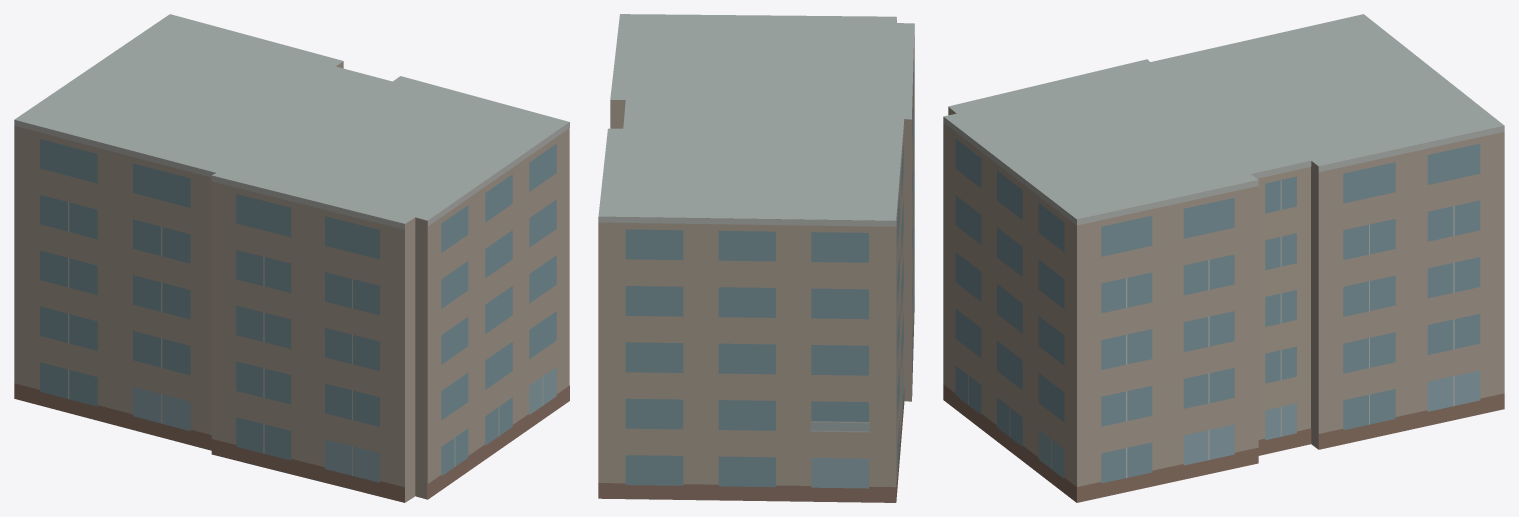
Rendered from survey-upis-32658032.glb.
The picture shows the model from 3 angles, left to right: view 1: azimuth 30°, elevation 25°; view 2: azimuth 150°, elevation 25°; view 3: azimuth 270°, elevation 25°; orthographic projection.
Visible parts, largest first — view 1: survey-upis-32658032.tmp; view 2: survey-upis-32658032.tmp; view 3: survey-upis-32658032.tmp.
Part boxes in pixels (x1,y1,x2,y2): survey-upis-32658032.tmp: (14,14,569,502); survey-upis-32658032.tmp: (598,14,914,502); survey-upis-32658032.tmp: (943,14,1504,502).
Bounding box in the file's own units: 17.73 × 11.4 × 20.47.
